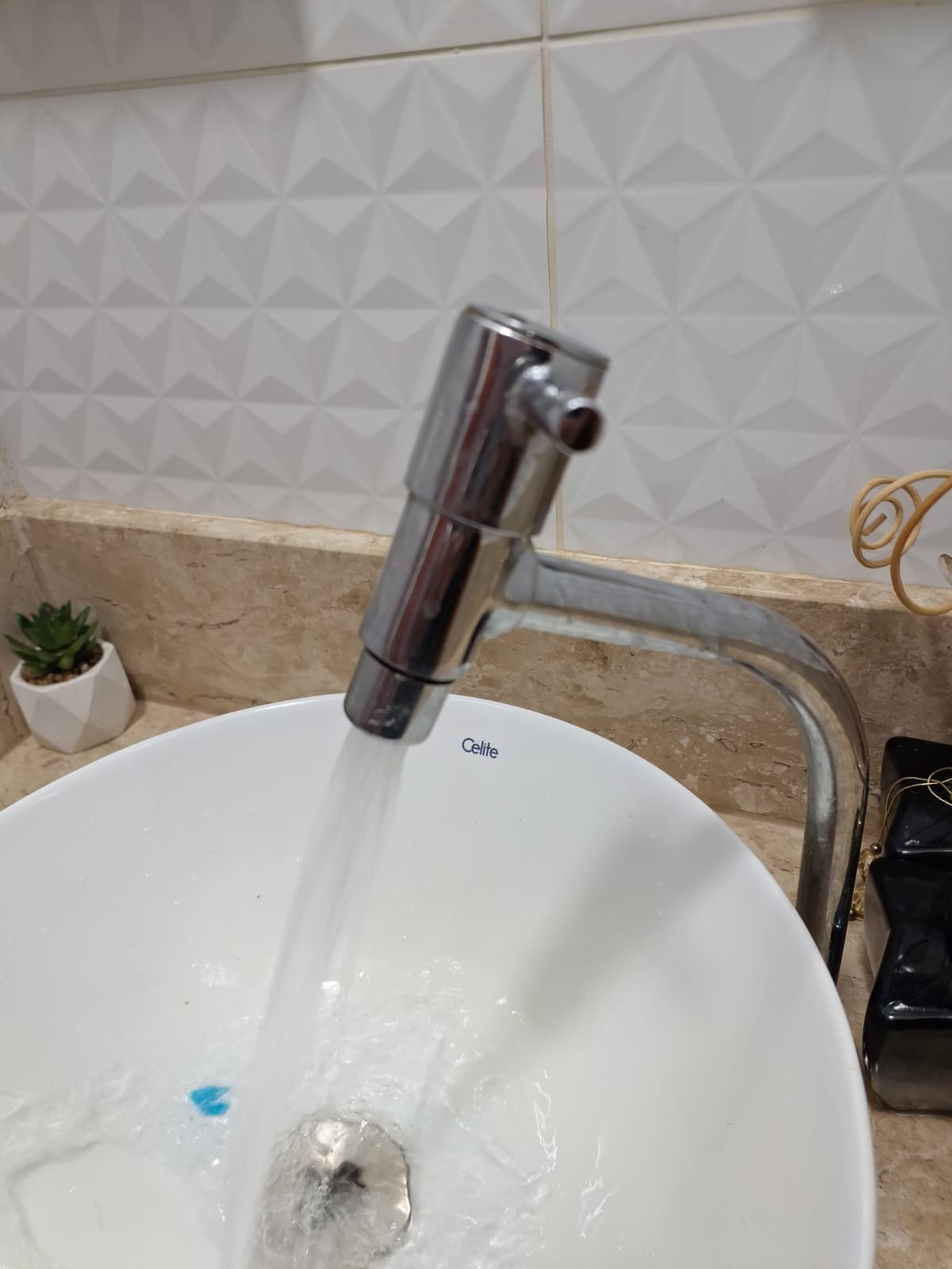torneira_aberta: (157, 276, 665, 1263)
